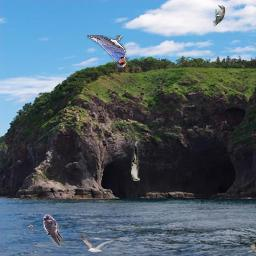Cuckoo: (131, 141, 140, 181)
Swallow: (87, 35, 127, 67), (43, 214, 63, 246)
Woodpecker: (213, 5, 225, 27)
